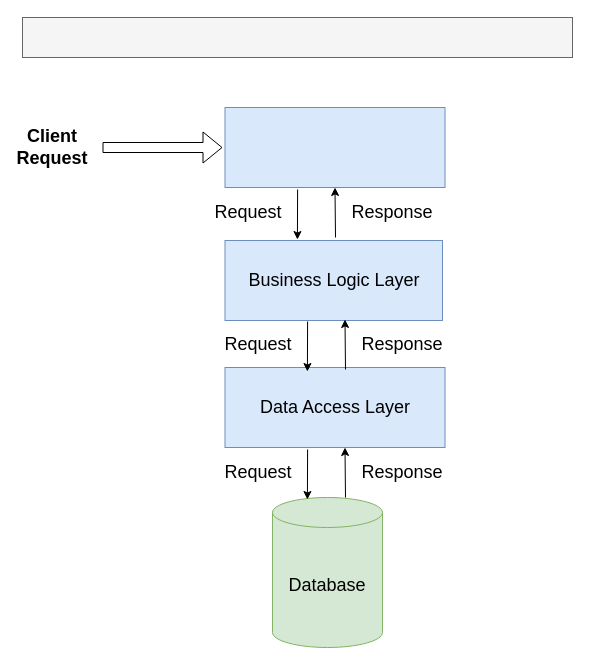
Image size: 590x665. Some labels were removed from this diagram. Here are the shapes that lost their labels. From the top down, the box of each, then its label:
(22, 16, 572, 58): 3 - Layered Architecture
(224, 106, 445, 188): Application Interface Layer
